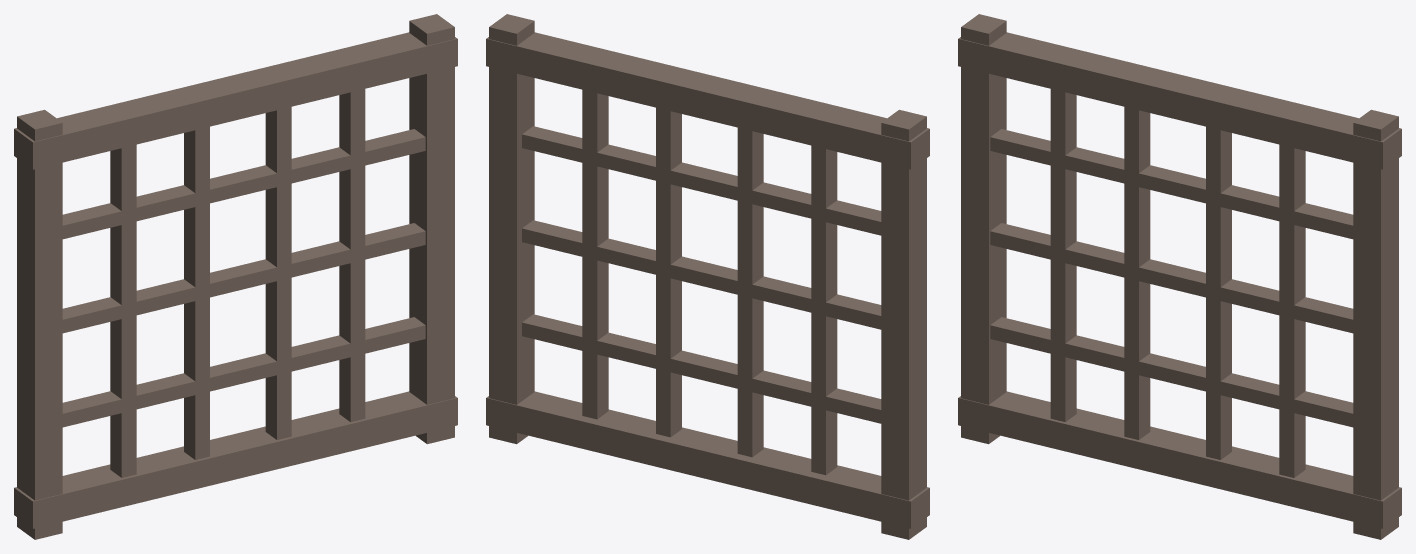
File: janela_lattice_quadrada.glb
3 views of the same model, side by side, from view 1: azimuth 30°, elevation 25°; view 2: azimuth 150°, elevation 25°; view 3: azimuth 330°, elevation 25° (orthographic).
Visible parts, largest first — view 1: janela_lattice_quadrada_part_003, janela_lattice_quadrada_part_002, janela_lattice_quadrada_part_000, janela_lattice_quadrada_part_001, janela_lattice_quadrada_part_010, janela_lattice_quadrada_part_008, janela_lattice_quadrada_part_009, janela_lattice_quadrada_part_006, janela_lattice_quadrada_part_004, janela_lattice_quadrada_part_007, janela_lattice_quadrada_part_005; view 2: janela_lattice_quadrada_part_003, janela_lattice_quadrada_part_002, janela_lattice_quadrada_part_000, janela_lattice_quadrada_part_001, janela_lattice_quadrada_part_007, janela_lattice_quadrada_part_004, janela_lattice_quadrada_part_005, janela_lattice_quadrada_part_006, janela_lattice_quadrada_part_009, janela_lattice_quadrada_part_008, janela_lattice_quadrada_part_010; view 3: janela_lattice_quadrada_part_003, janela_lattice_quadrada_part_002, janela_lattice_quadrada_part_001, janela_lattice_quadrada_part_000, janela_lattice_quadrada_part_010, janela_lattice_quadrada_part_004, janela_lattice_quadrada_part_009, janela_lattice_quadrada_part_008, janela_lattice_quadrada_part_007, janela_lattice_quadrada_part_005, janela_lattice_quadrada_part_006.
Part boxes in pixels (x1,y1,x2,y2): janela_lattice_quadrada_part_003: [14, 32, 457, 169]; janela_lattice_quadrada_part_002: [14, 391, 457, 528]; janela_lattice_quadrada_part_000: [17, 109, 62, 539]; janela_lattice_quadrada_part_001: [409, 14, 454, 444]; janela_lattice_quadrada_part_010: [62, 129, 425, 239]; janela_lattice_quadrada_part_008: [62, 317, 425, 427]; janela_lattice_quadrada_part_009: [62, 223, 425, 333]; janela_lattice_quadrada_part_006: [265, 107, 291, 439]; janela_lattice_quadrada_part_004: [110, 144, 136, 477]; janela_lattice_quadrada_part_007: [339, 89, 365, 422]; janela_lattice_quadrada_part_005: [184, 126, 209, 459]; janela_lattice_quadrada_part_003: [486, 32, 929, 169]; janela_lattice_quadrada_part_002: [486, 391, 929, 528]; janela_lattice_quadrada_part_000: [881, 109, 926, 539]; janela_lattice_quadrada_part_001: [489, 14, 534, 444]; janela_lattice_quadrada_part_007: [582, 89, 608, 419]; janela_lattice_quadrada_part_004: [811, 145, 837, 475]; janela_lattice_quadrada_part_005: [737, 127, 763, 457]; janela_lattice_quadrada_part_006: [656, 107, 681, 437]; janela_lattice_quadrada_part_009: [522, 220, 881, 329]; janela_lattice_quadrada_part_008: [522, 314, 881, 423]; janela_lattice_quadrada_part_010: [522, 126, 881, 235]; janela_lattice_quadrada_part_003: [958, 32, 1401, 169]; janela_lattice_quadrada_part_002: [958, 391, 1401, 528]; janela_lattice_quadrada_part_001: [1353, 109, 1398, 539]; janela_lattice_quadrada_part_000: [961, 14, 1006, 444]; janela_lattice_quadrada_part_010: [990, 129, 1353, 239]; janela_lattice_quadrada_part_004: [1050, 89, 1076, 422]; janela_lattice_quadrada_part_009: [990, 223, 1353, 333]; janela_lattice_quadrada_part_008: [990, 317, 1353, 427]; janela_lattice_quadrada_part_007: [1279, 144, 1305, 477]; janela_lattice_quadrada_part_005: [1124, 107, 1150, 439]; janela_lattice_quadrada_part_006: [1206, 126, 1231, 459].
Bounding box in the file's own units: 2.6 × 2.4 × 0.2.
